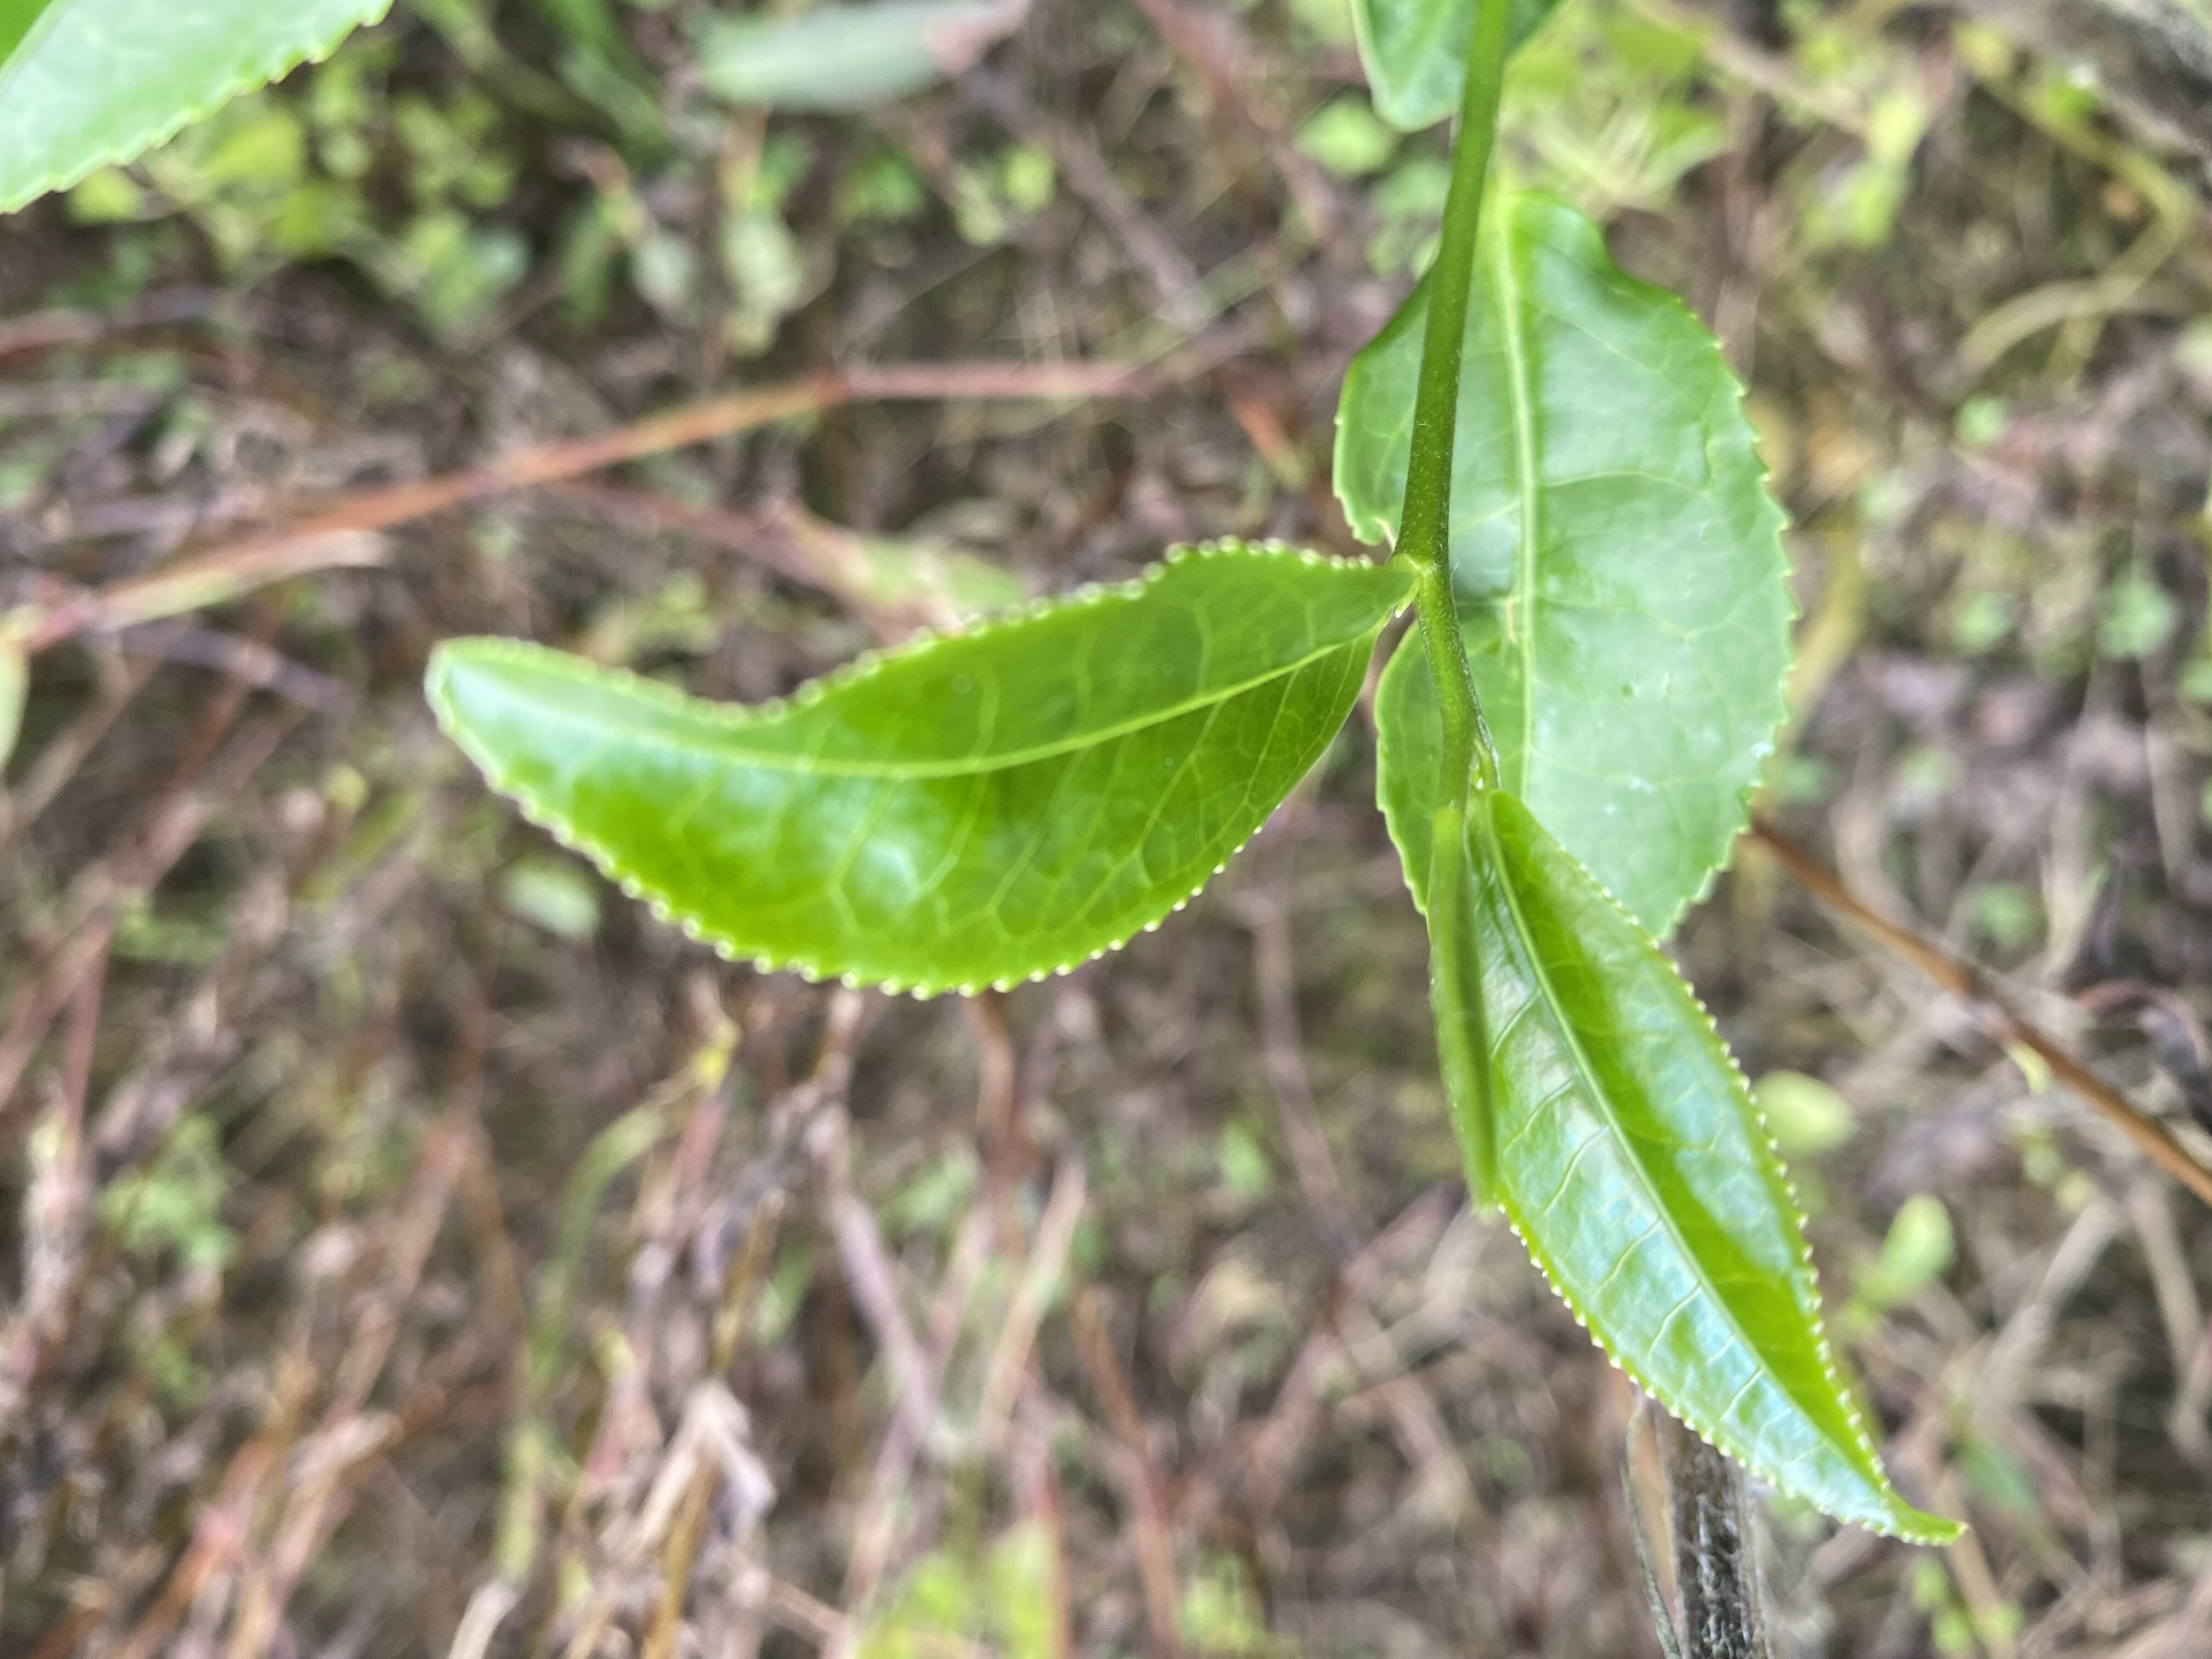healthy: (421, 533, 1400, 1004), (1467, 791, 1970, 1547)
